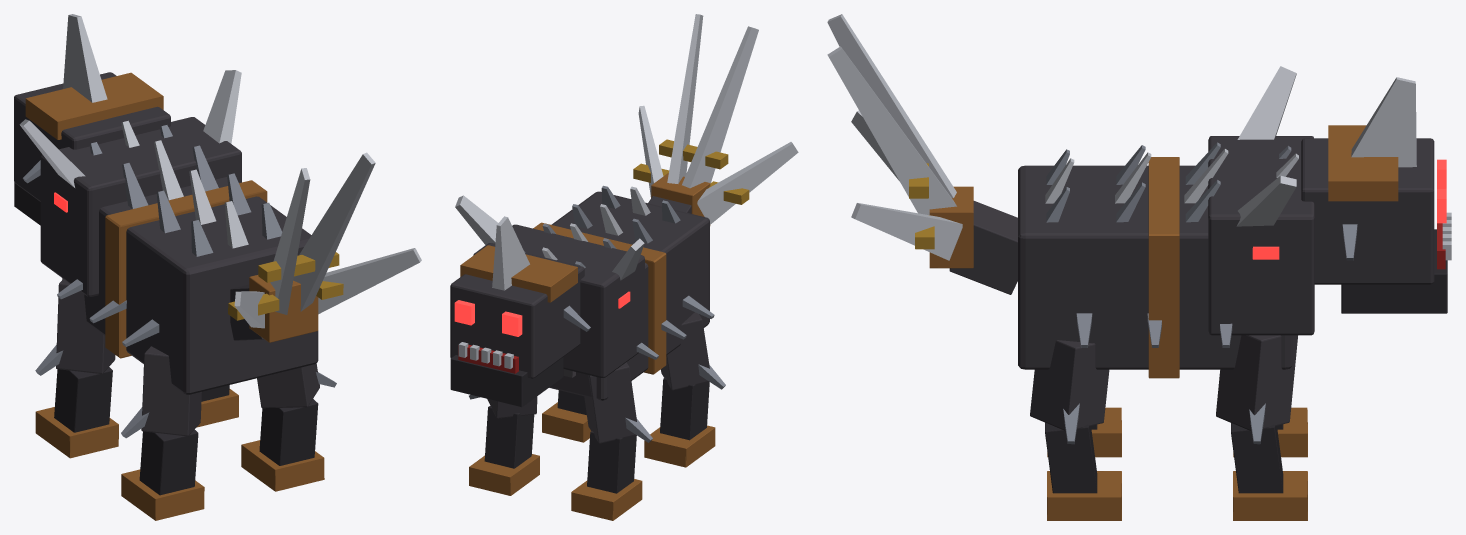
File: bladehide.glb
3 views of the same model, side by side, from view 1: azimuth 30°, elevation 25°; view 2: azimuth 150°, elevation 25°; view 3: azimuth 270°, elevation 25° (orthographic). The views are drawn at different scales.
Visible parts, largest first — view 1: body, tail, head, leg.BR, leg.FR, leg.BL, leg.FL; view 2: body, head, tail, leg.FR, leg.BR, leg.FL, leg.BL; view 3: body, head, tail, leg.FL, leg.BL, leg.FR, leg.BR.
Part boxes in pixels (left/top/right/bottom): body: left=19, top=70, right=318, bottom=394; tail: left=228, top=152, right=421, bottom=342; head: left=14, top=14, right=170, bottom=225; leg.BR: left=121, top=346, right=204, bottom=520; leg.FR: left=35, top=279, right=118, bottom=458; leg.BL: left=241, top=363, right=336, bottom=491; leg.FL: left=196, top=385, right=238, bottom=427; body: left=455, top=185, right=714, bottom=400; head: left=450, top=216, right=590, bottom=407; tail: left=633, top=14, right=798, bottom=225; leg.FR: left=571, top=362, right=652, bottom=520; leg.BR: left=644, top=312, right=725, bottom=467; leg.FL: left=469, top=394, right=539, bottom=495; leg.BL: left=542, top=390, right=591, bottom=442; body: left=1018, top=66, right=1314, bottom=378; head: left=1301, top=77, right=1451, bottom=313; tail: left=827, top=14, right=1017, bottom=294; leg.FL: left=1216, top=335, right=1307, bottom=520; leg.BL: left=1030, top=340, right=1121, bottom=520; leg.FR: left=1233, top=407, right=1307, bottom=457; leg.BR: left=1047, top=407, right=1121, bottom=457.
Size of the model in its own units: 0.5579 by 1 by 1.27.
